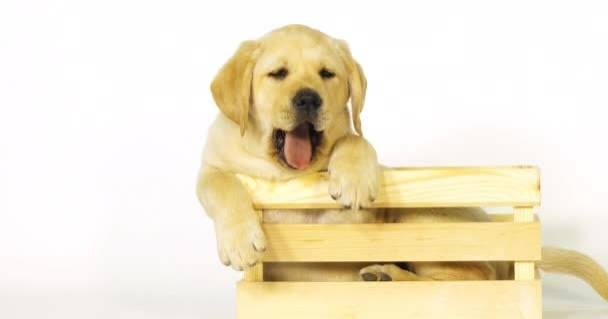puppy-dog: (196, 23, 607, 307)
